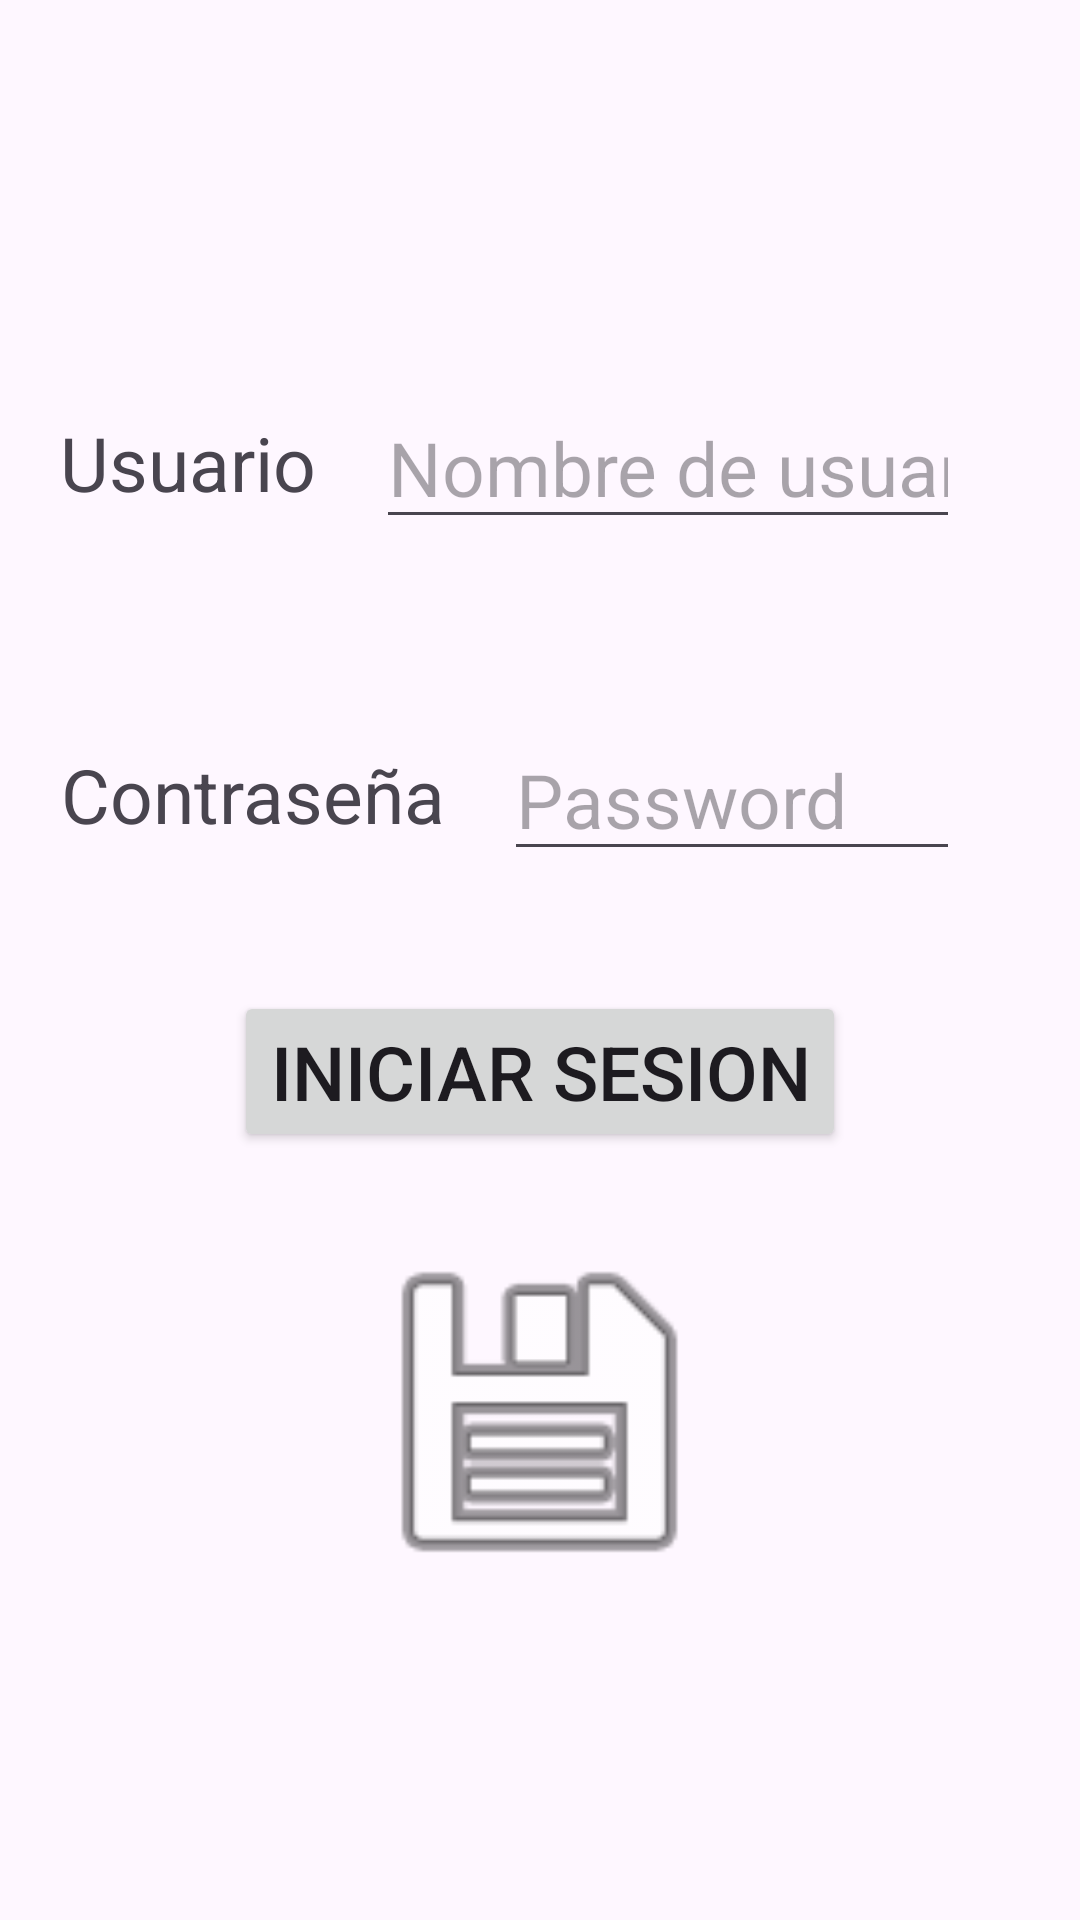

Screen size 1080px×1920px. Icon name, then its box in pixels as region(x1, y1, x2, y2):
save: region(401, 1272, 678, 1552)
